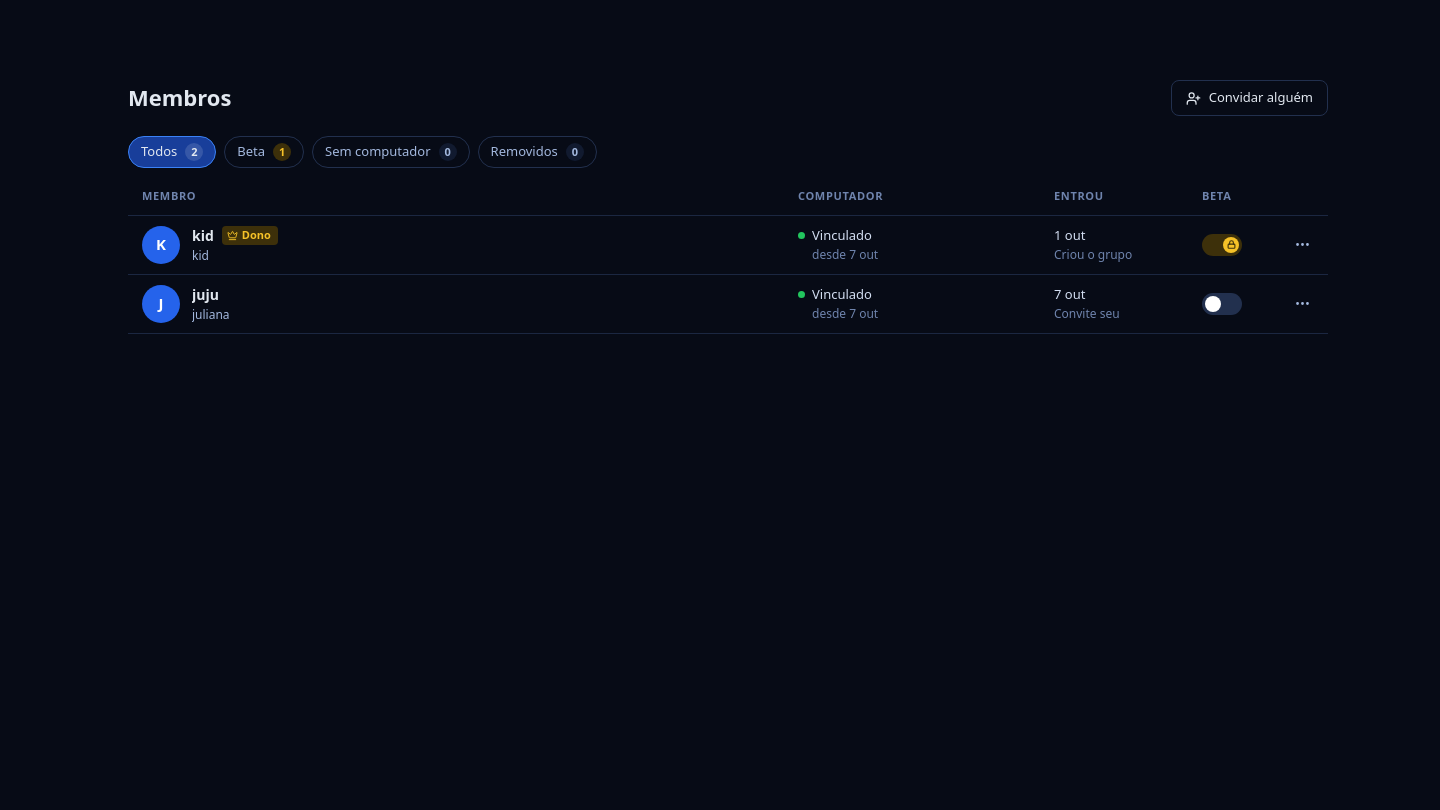
Test: ações do membro › a chave de Gerenciar canais liga a permissão na hora
The image size is (1440, 810).
Click the button with aria-label "Detalhes de juju". click: coordinates (161, 304)
box: [142,284,782,322]
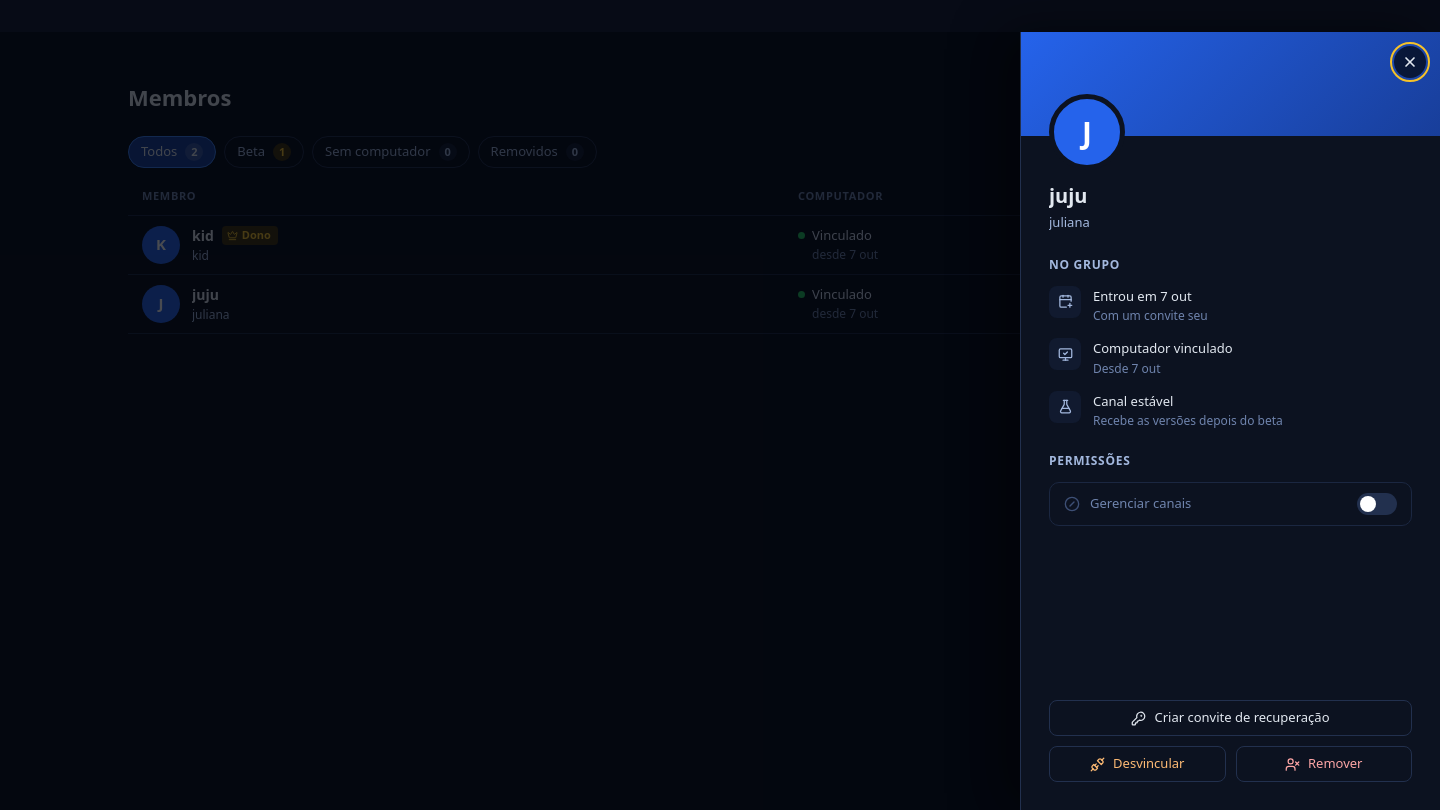
Click the switch named "Gerenciar canais para juju". click: coordinates (1377, 504)
box: [1357,493,1397,515]
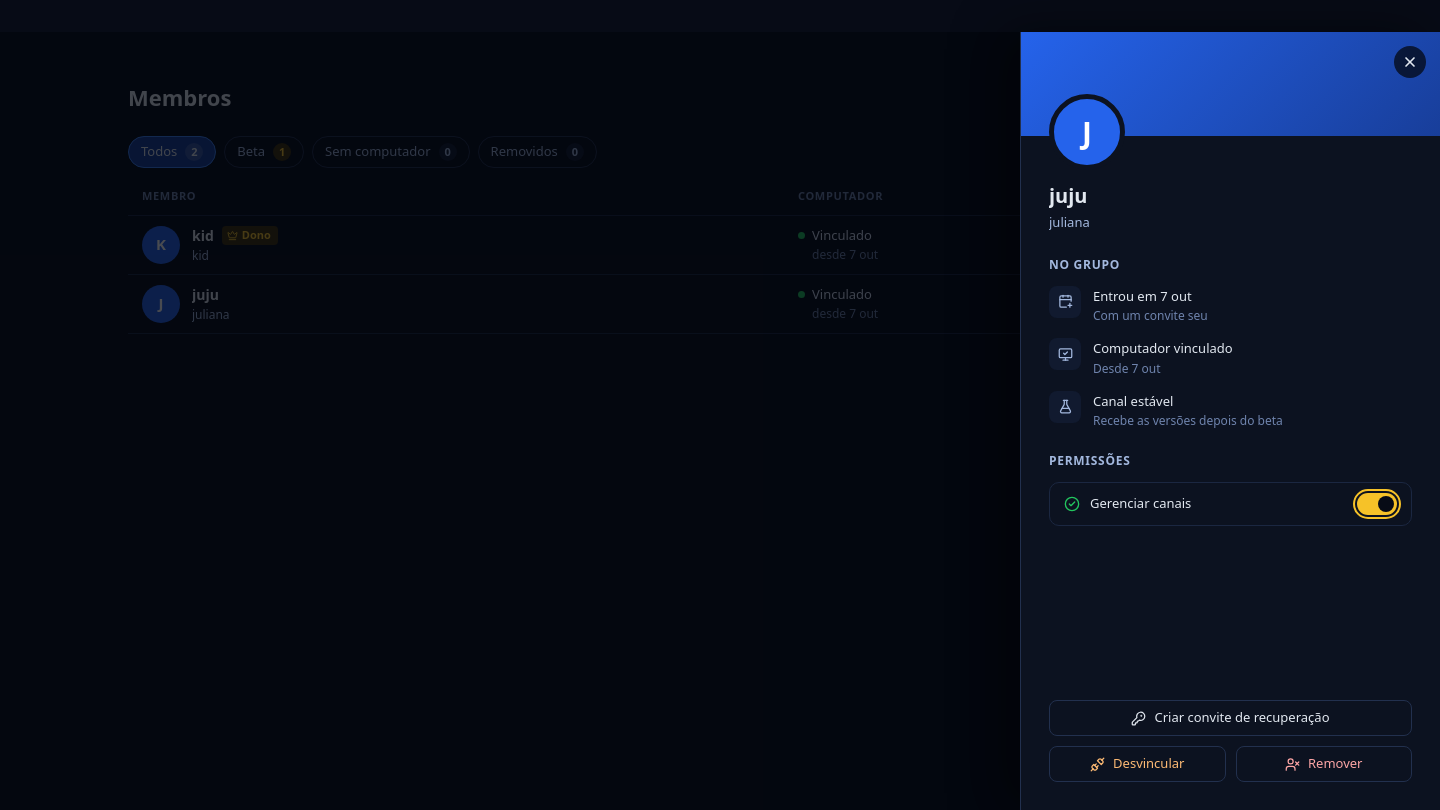
Expected: the switch named "Gerenciar canais para juju" is checked, [1357,493,1397,515]
